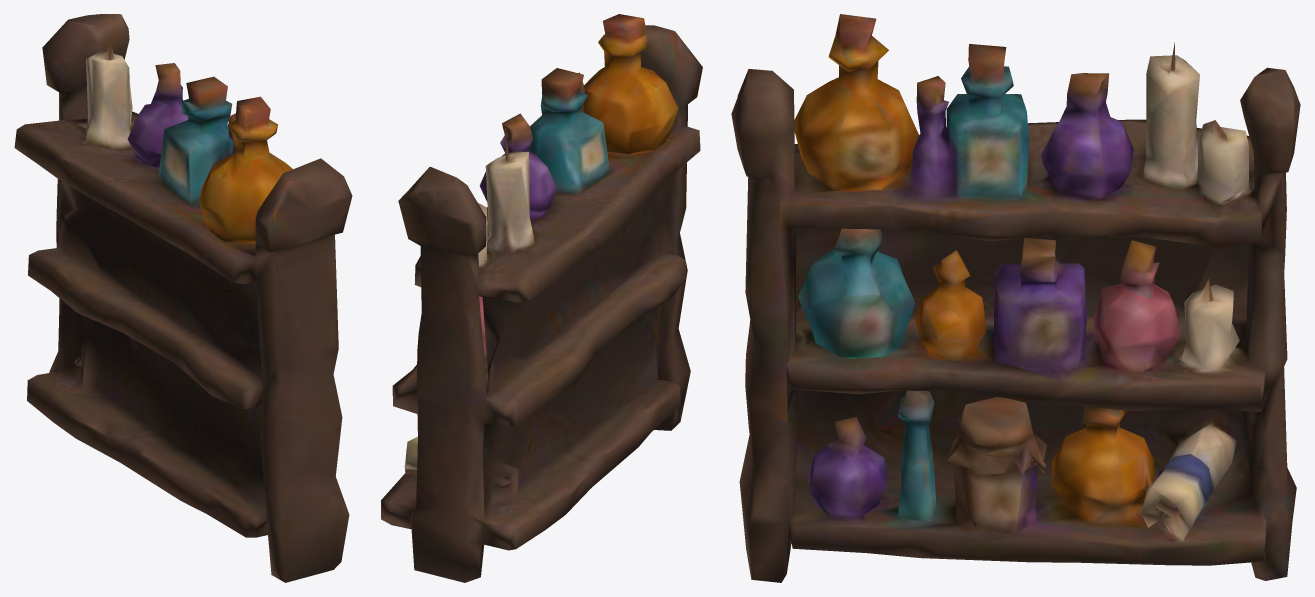
The model's file is shelf.glb.
3 views of the same model, side by side, from view 1: azimuth 30°, elevation 25°; view 2: azimuth 150°, elevation 25°; view 3: azimuth 270°, elevation 25° (orthographic). The views are drawn at different scales.
Parts seen in each view (by area): view 1: tripo_node_2ca3c674-a129-4b4d-9ce4-52b97a08ce67; view 2: tripo_node_2ca3c674-a129-4b4d-9ce4-52b97a08ce67; view 3: tripo_node_2ca3c674-a129-4b4d-9ce4-52b97a08ce67.
Boxes of the visible parts, box(x1,y1,x2,y2) form: tripo_node_2ca3c674-a129-4b4d-9ce4-52b97a08ce67: box(14, 14, 352, 582); tripo_node_2ca3c674-a129-4b4d-9ce4-52b97a08ce67: box(381, 14, 702, 582); tripo_node_2ca3c674-a129-4b4d-9ce4-52b97a08ce67: box(731, 14, 1300, 582).
Bounding box in the file's own units: 0.3968 × 1 × 0.9619.
1 material, 1 textured.
